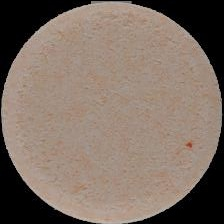68151-2958: (0, 0, 224, 224)
